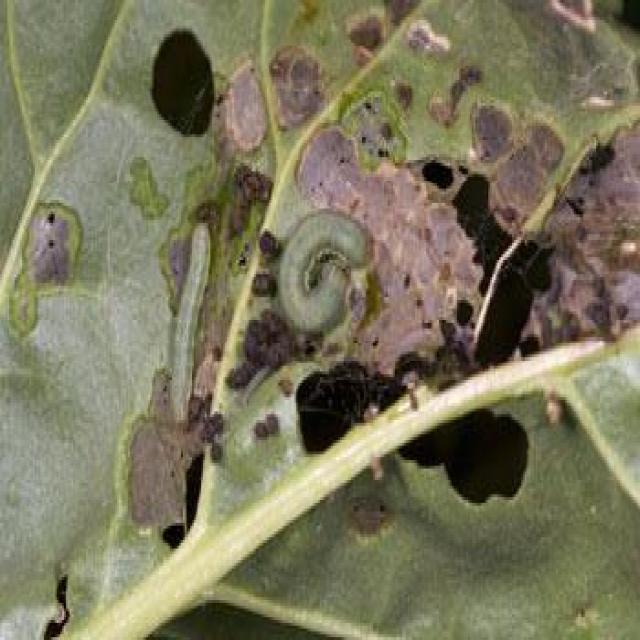BeetArmyWorm-Larva-: (162, 219, 220, 436), (275, 206, 377, 329)
